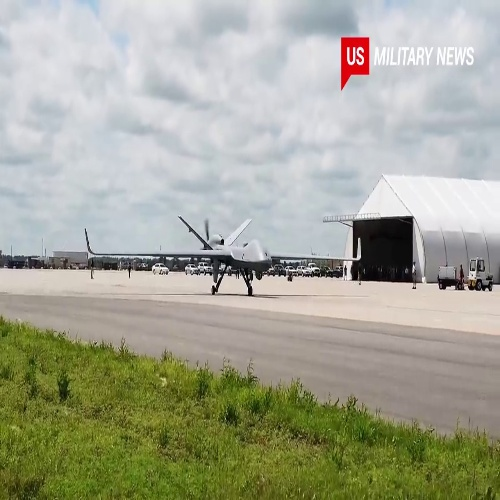uav: (85, 216, 364, 294)
